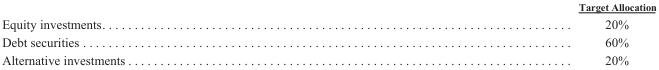table: (1, 0, 655, 66)
table column: (1, 0, 351, 66), (351, 0, 655, 66)
table column header: (1, 0, 655, 14)
table row: (1, 14, 655, 32), (1, 32, 655, 50), (1, 50, 655, 66), (1, 0, 655, 14)
